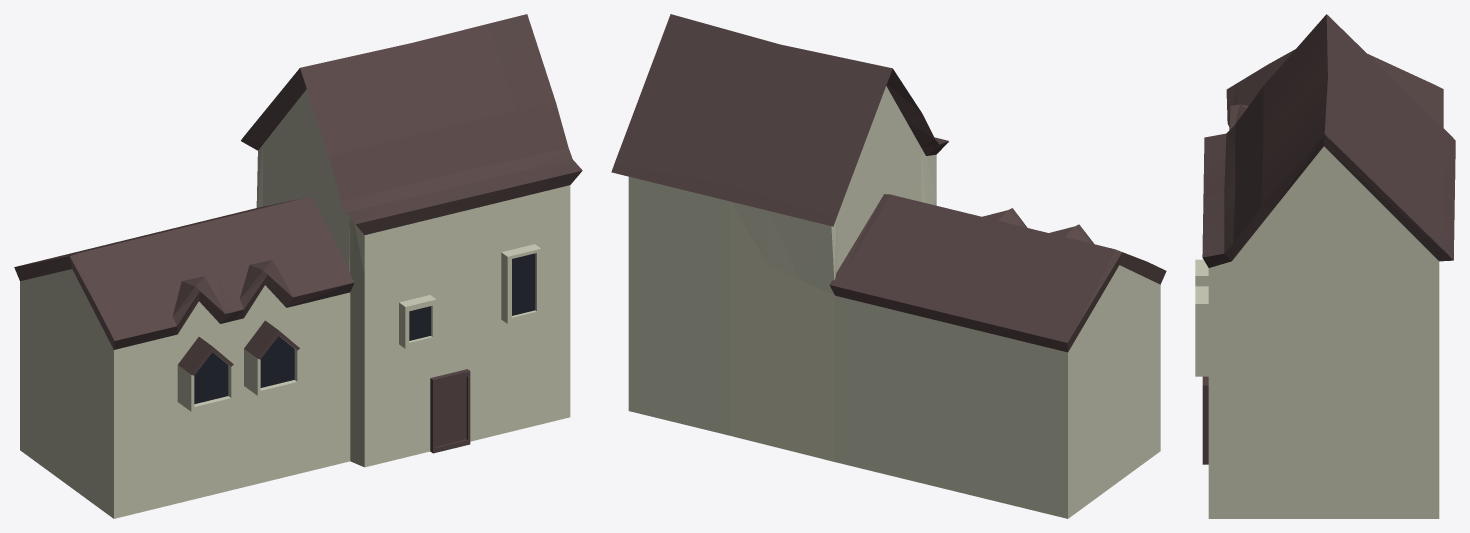
The model's file is house1.fbx.
The picture shows the model from 3 angles, left to right: view 1: azimuth 30°, elevation 25°; view 2: azimuth 150°, elevation 25°; view 3: azimuth 270°, elevation 25°; orthographic projection. The views are drawn at different scales.
Visible parts, largest first — view 1: pCube15; view 2: pCube15; view 3: pCube15.
Boxes of the visible parts, x1,y1,x2,y2 form: pCube15: (14, 14, 582, 518); pCube15: (611, 14, 1166, 518); pCube15: (1195, 14, 1455, 518).
Bounding box in the file's own units: 35.36 × 26.83 × 16.12.
